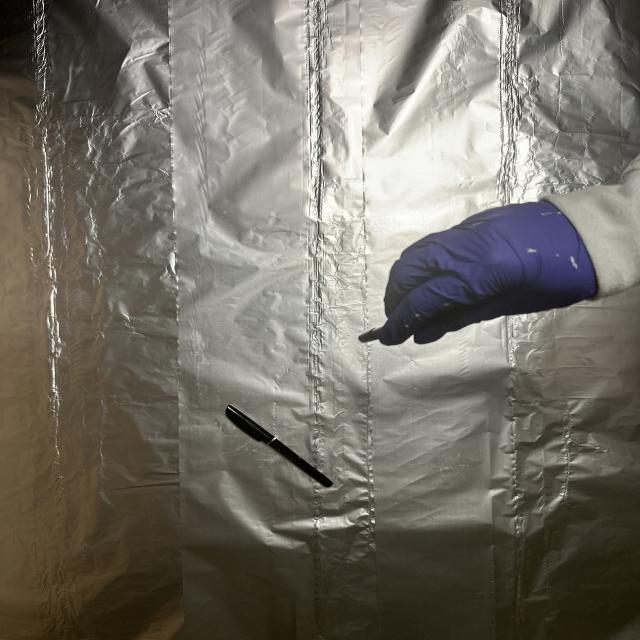gloves_contaminated: (379, 202, 597, 345)
